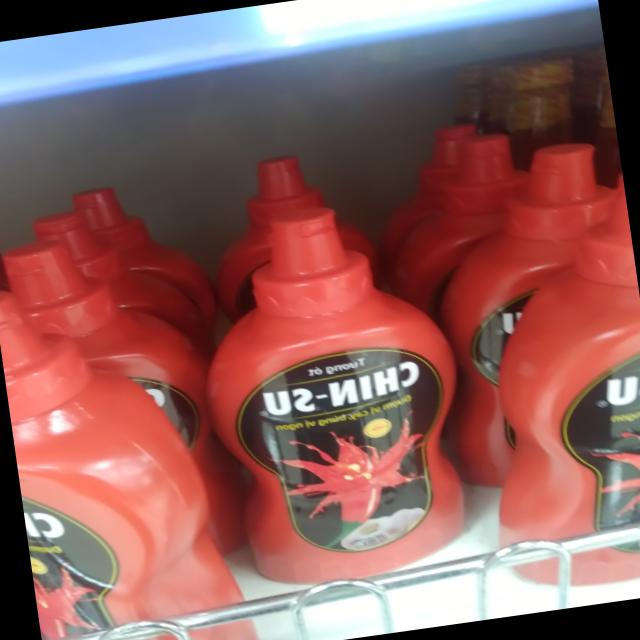tuong ot chinsu: (180, 194, 487, 604)
